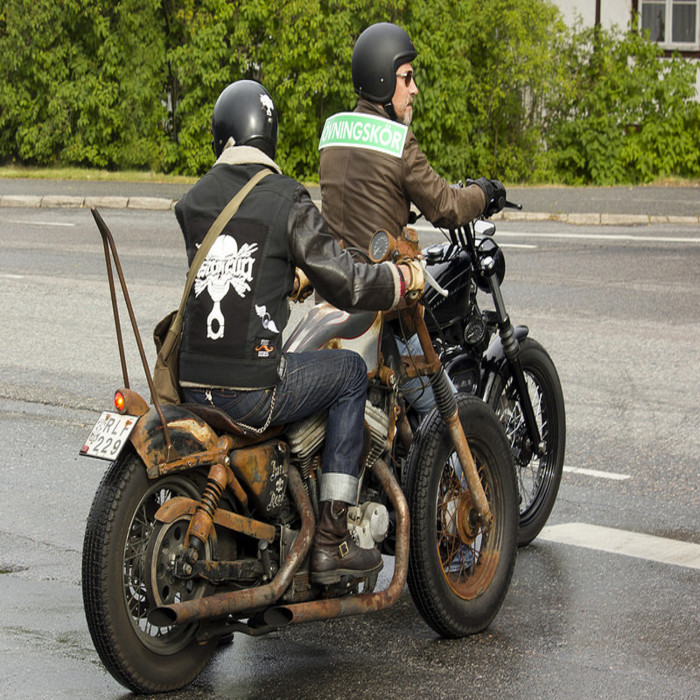h: (200, 77, 294, 170), (348, 25, 425, 138)
